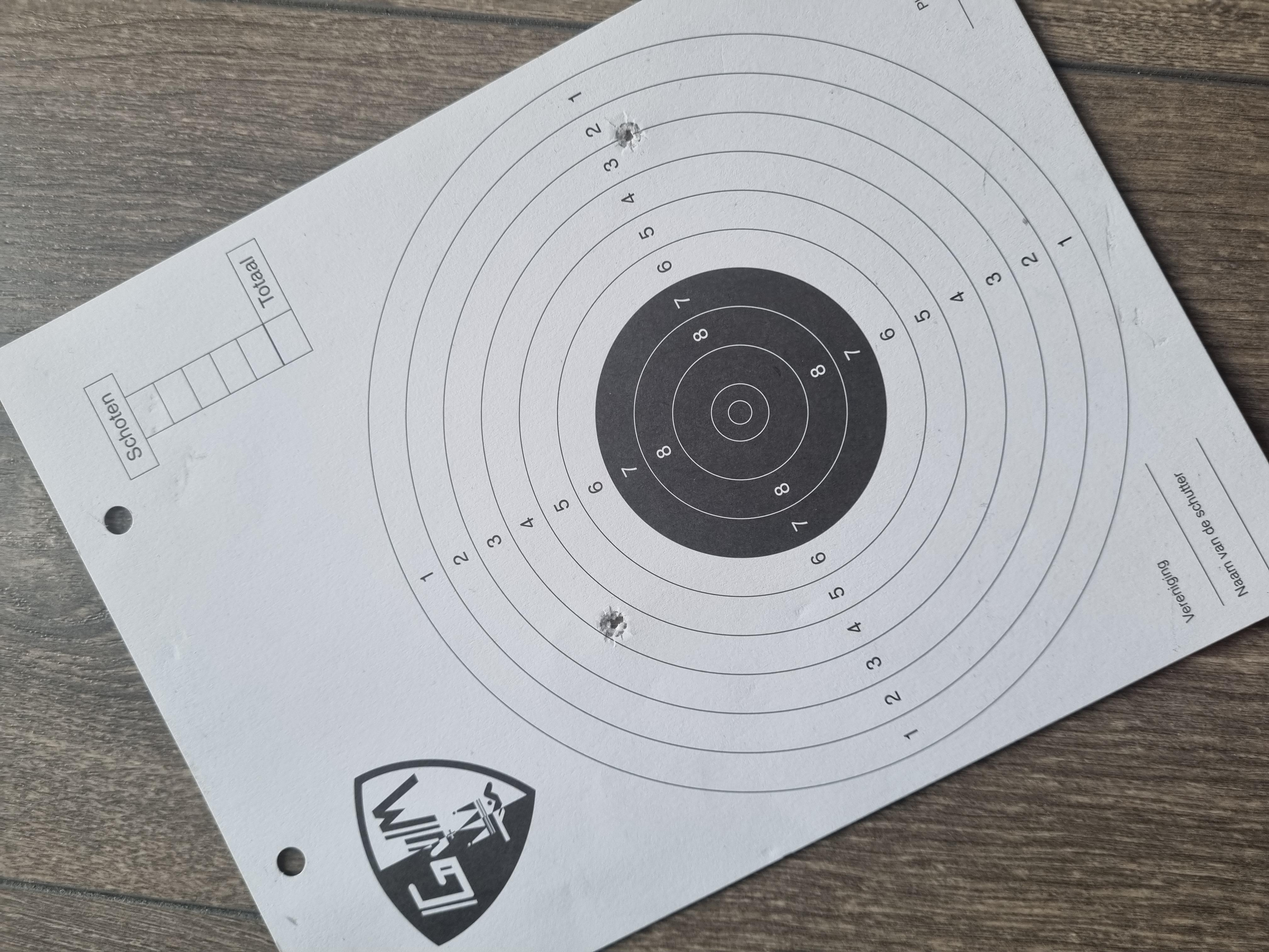hole: (411, 446, 456, 472), (1067, 460, 1111, 482)
